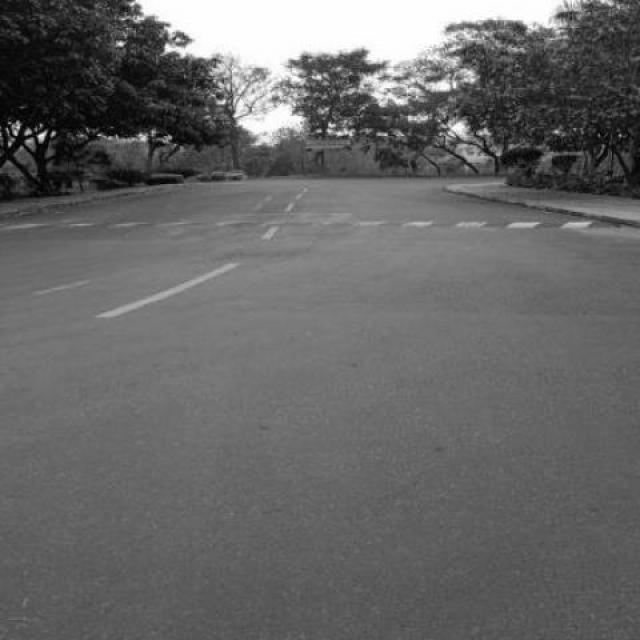Speed Bump: (0, 219, 623, 233)
